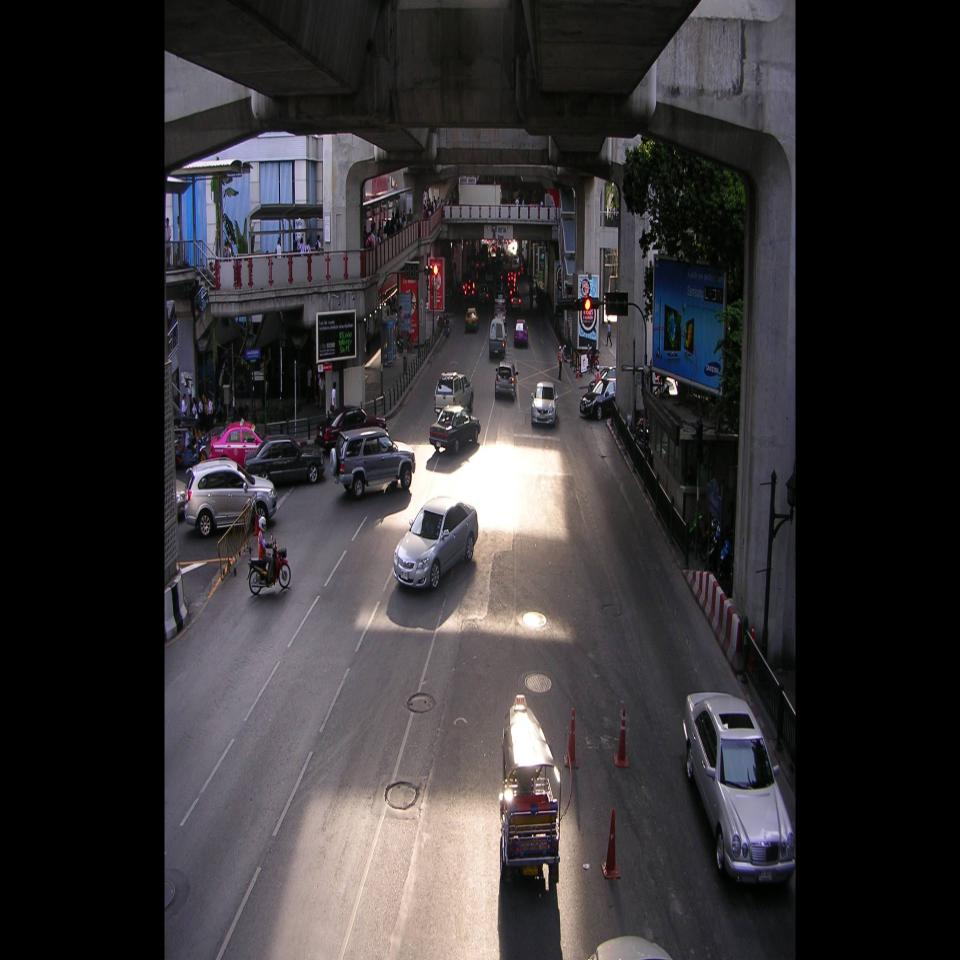signage: (491, 224, 507, 240), (498, 227, 506, 239)
